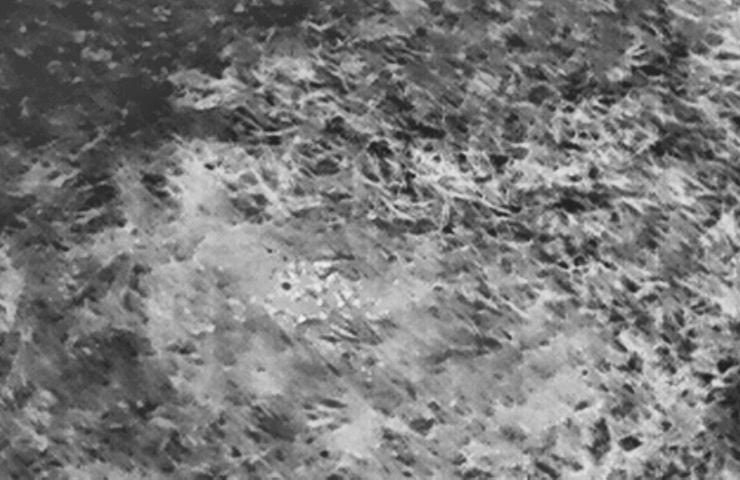landmines: (250, 250, 366, 347)
